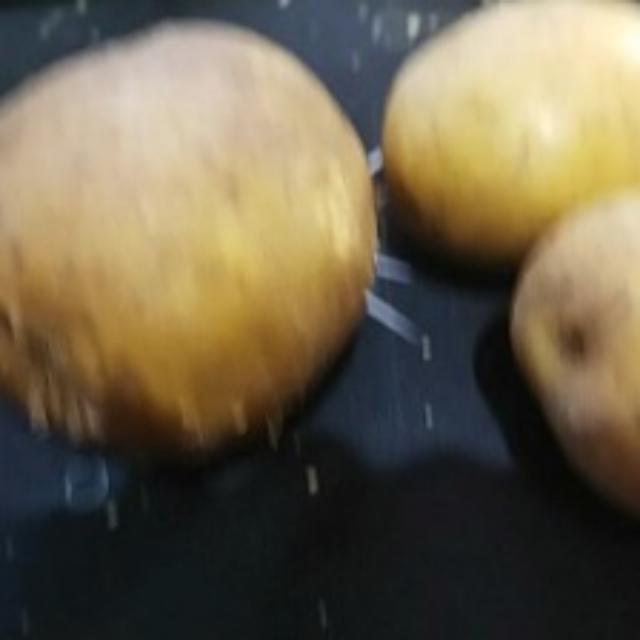Damaged potato: (4, 4, 390, 466), (498, 176, 640, 536)
Potato: (382, 0, 640, 270)
